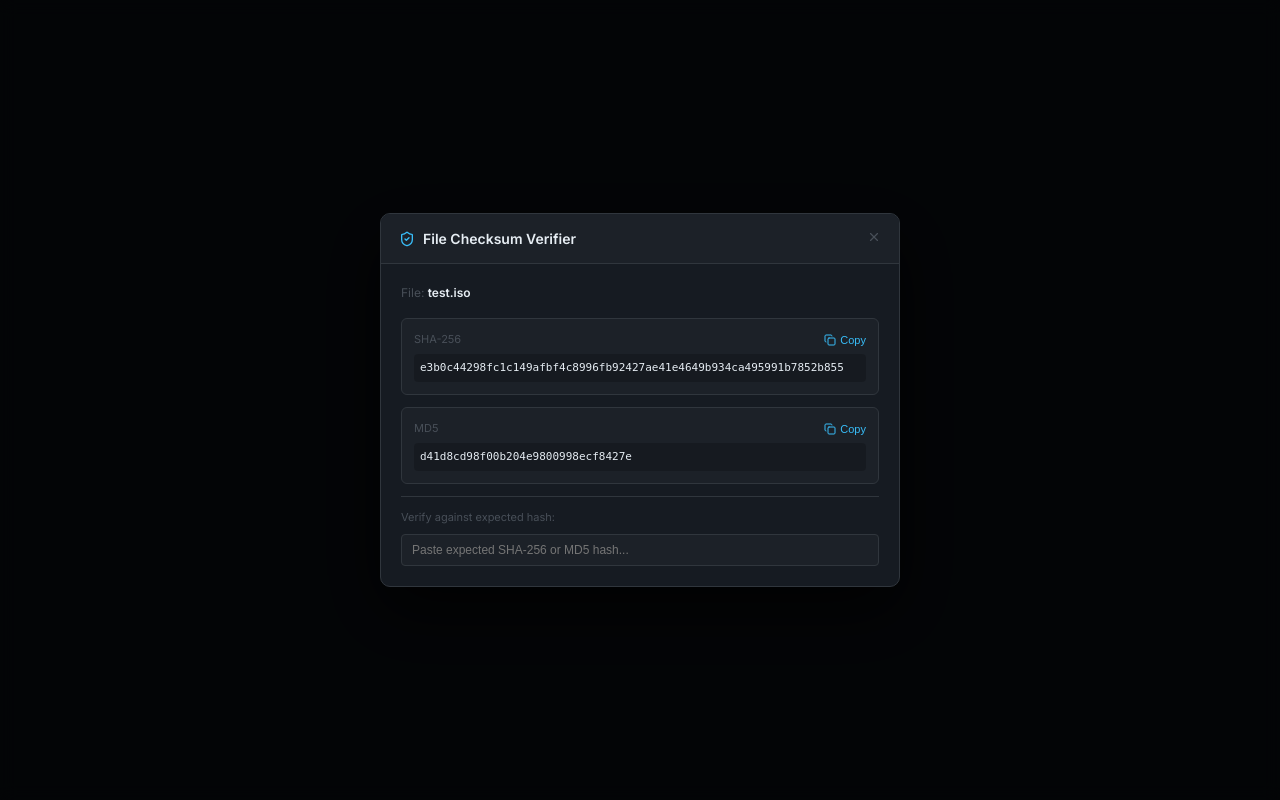
Test case: ChecksumModal Component Tests › renders SHA-256 and MD5 checksums and verifies hash matches
Check: the text "File Checksum Verifier" is shown, box [423, 228, 576, 249]
Check: the text "e3b0c44298fc1c149afbf4c8996fb92427ae41e4649b934ca495991b7852b855" is shown, box [414, 354, 866, 382]
In the field with placeholder "Paste expected SHA-256 or MD5 hash...": (640, 550) [401, 534, 879, 566], type "d41d8cd98f00b204e9800998ecf8427e"
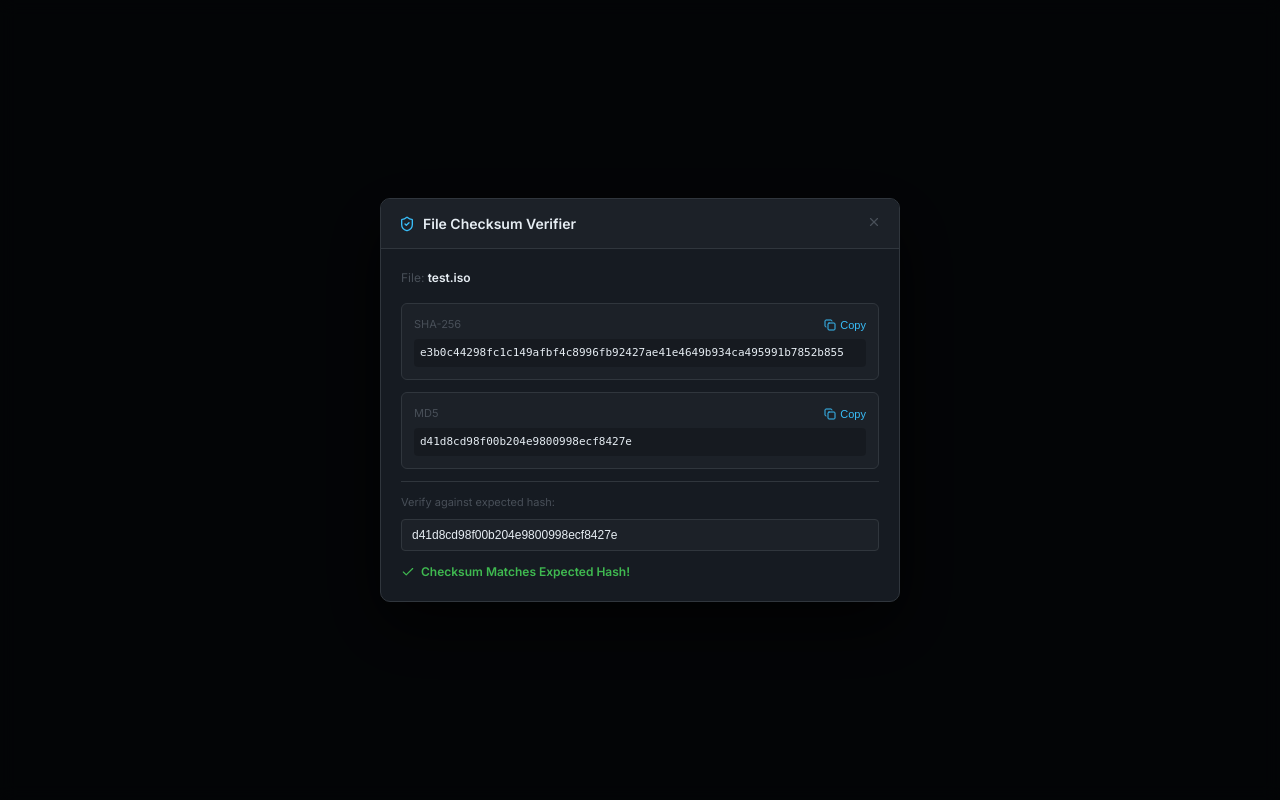
Check: the text "Checksum Matches Expected Hash!" is shown, box [421, 563, 630, 581]
